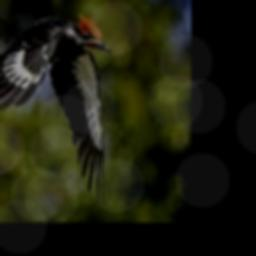Woodpecker: (0, 12, 111, 206)
